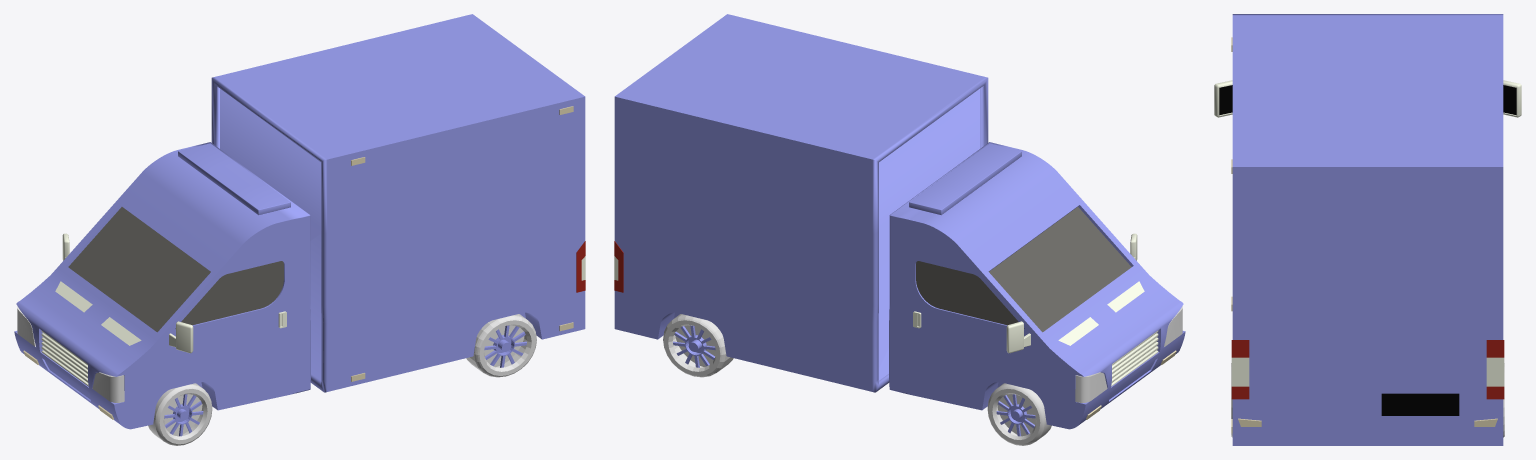
The picture shows the model from 3 angles, left to right: view 1: azimuth 30°, elevation 25°; view 2: azimuth 150°, elevation 25°; view 3: azimuth 270°, elevation 25°; orthographic projection. The views are drawn at different scales.
Parts seen in each view (by area): view 1: car1.002; view 2: car1.002; view 3: car1.002.
Boxes of the visible parts, x1,y1,x2,y2 form: car1.002: (14,14,585,445); car1.002: (614,14,1185,445); car1.002: (1214,14,1521,445).
Size of the model in its own units: 635 by 341 by 302.
